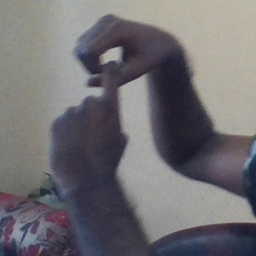Q: (44, 12, 178, 166)
